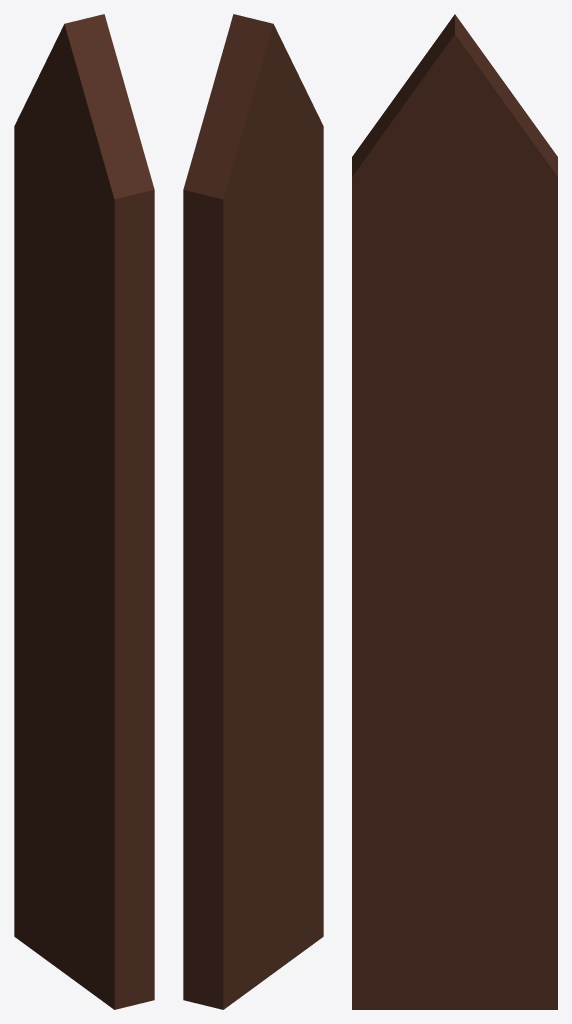
Rendered from FencePicketEnd_01.glb.
3 views of the same model, side by side, from view 1: azimuth 30°, elevation 25°; view 2: azimuth 150°, elevation 25°; view 3: azimuth 270°, elevation 25° (orthographic). The views are drawn at different scales.
Visible parts, largest first — view 1: FencePicketEnd_01; view 2: FencePicketEnd_01; view 3: FencePicketEnd_01.
Boxes of the visible parts, x1,y1,x2,y2 form: FencePicketEnd_01: (14, 14, 154, 1009); FencePicketEnd_01: (183, 14, 323, 1009); FencePicketEnd_01: (352, 14, 557, 1009).
Size of what is drawn, in the model's own units: 0.0534 by 1.21 by 0.2309.
1 material, 1 textured.
